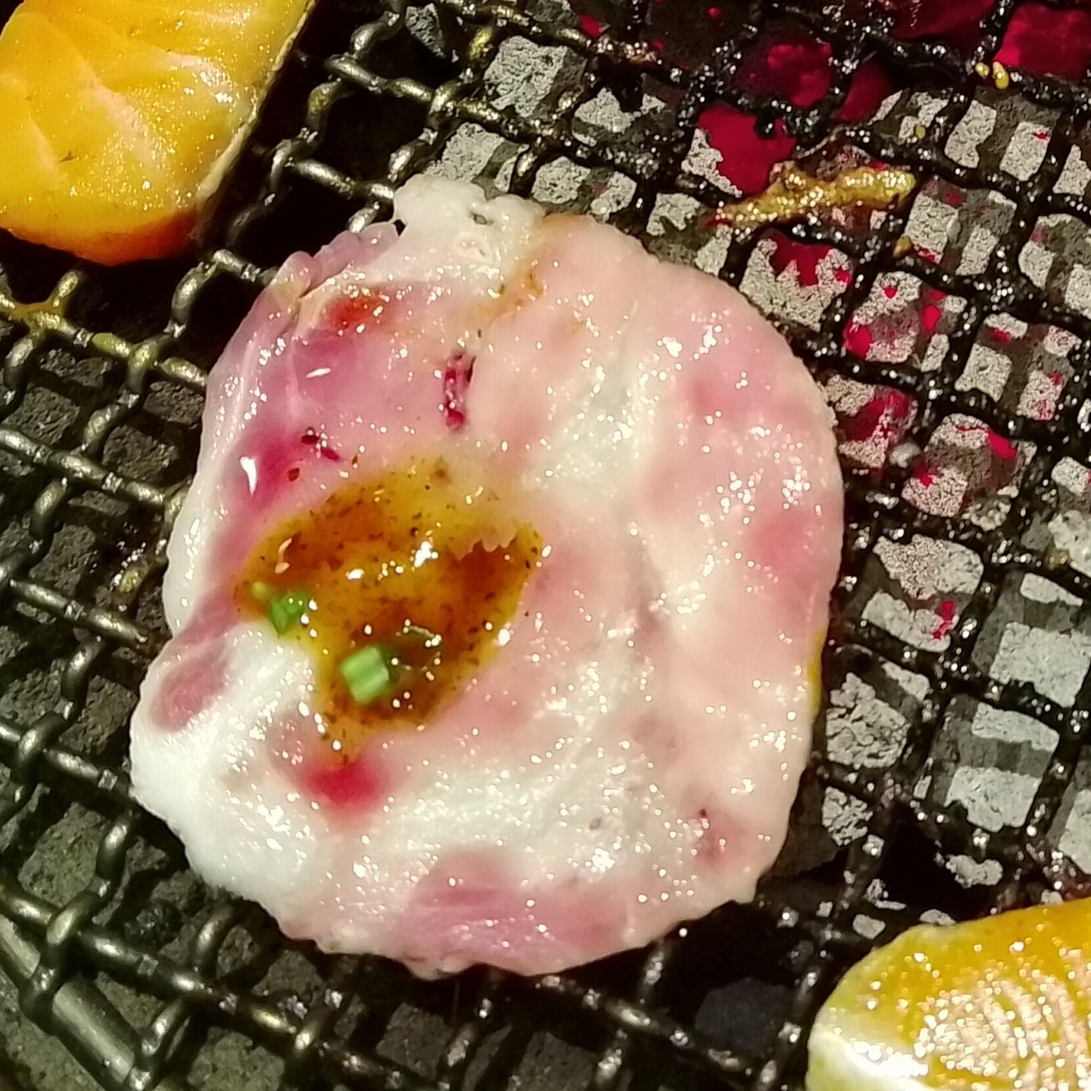Undercooked: (130, 176, 843, 976)
